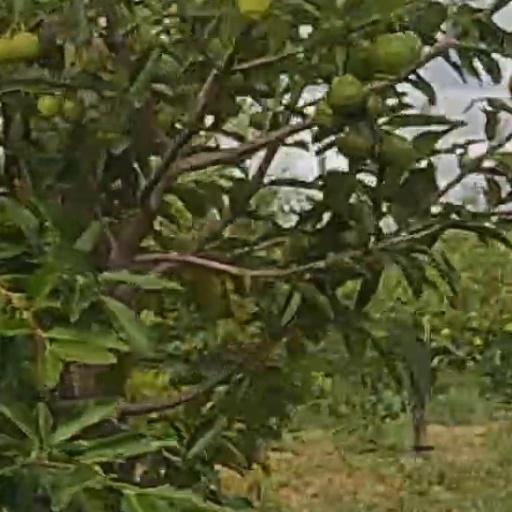acerola_verde: (373, 34, 417, 68), (328, 75, 367, 110), (376, 134, 416, 166), (11, 33, 40, 57)
